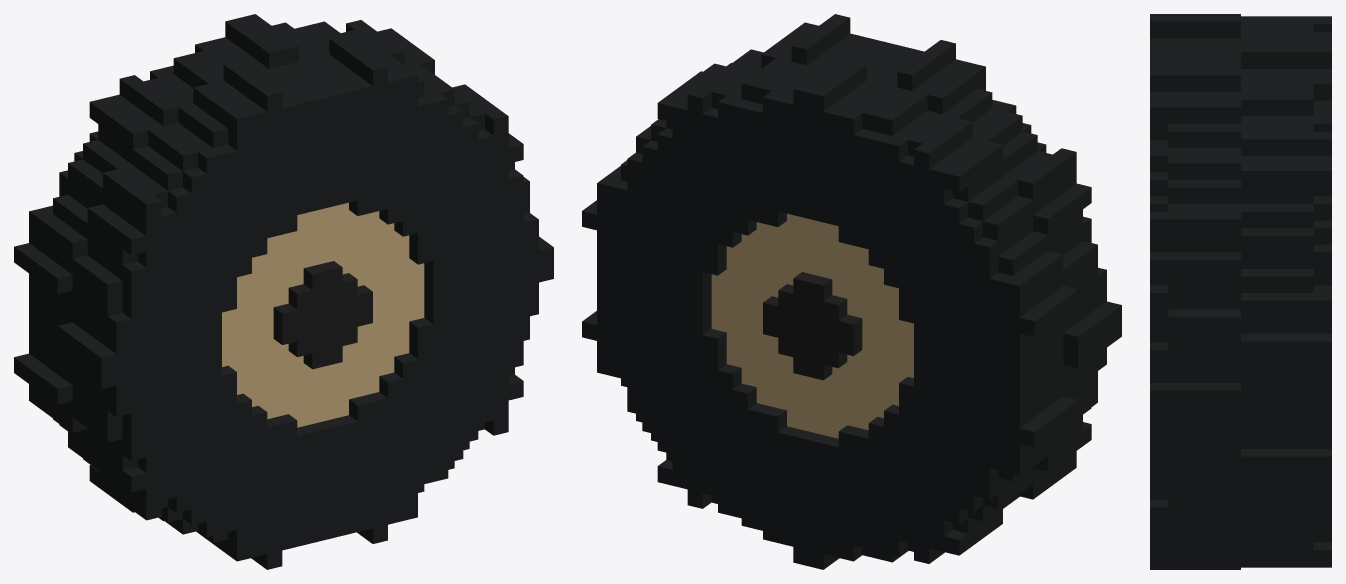
Rendered from light_tactical_vehicle_wheel.glb.
3 views of the same model, side by side, from view 1: azimuth 30°, elevation 25°; view 2: azimuth 150°, elevation 25°; view 3: azimuth 270°, elevation 25° (orthographic). The views are drawn at different scales.
Parts seen in each view (by area): view 1: body:compound; view 2: body:compound; view 3: body:compound.
Boxes of the visible parts, x1,y1,x2,y2 form: body:compound: [14, 14, 553, 569]; body:compound: [582, 14, 1121, 569]; body:compound: [1150, 14, 1331, 569].
Bounding box in the file's own units: 0.9375 × 0.9375 × 0.3125.
